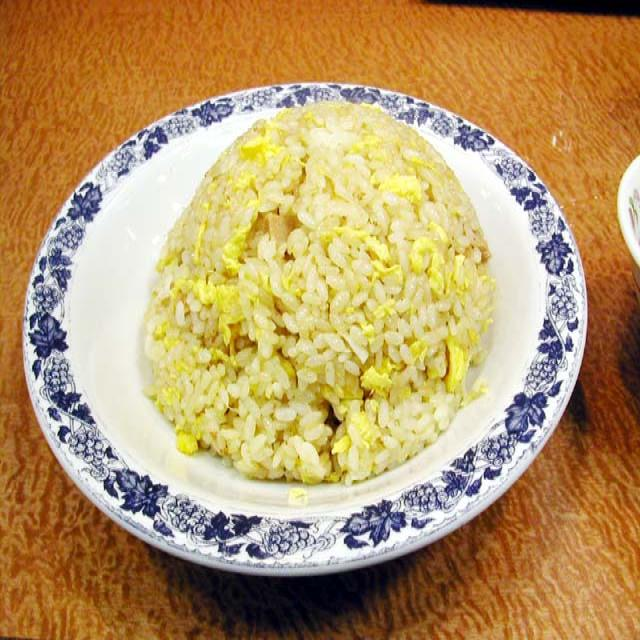米饭主食: (21, 66, 598, 594)
